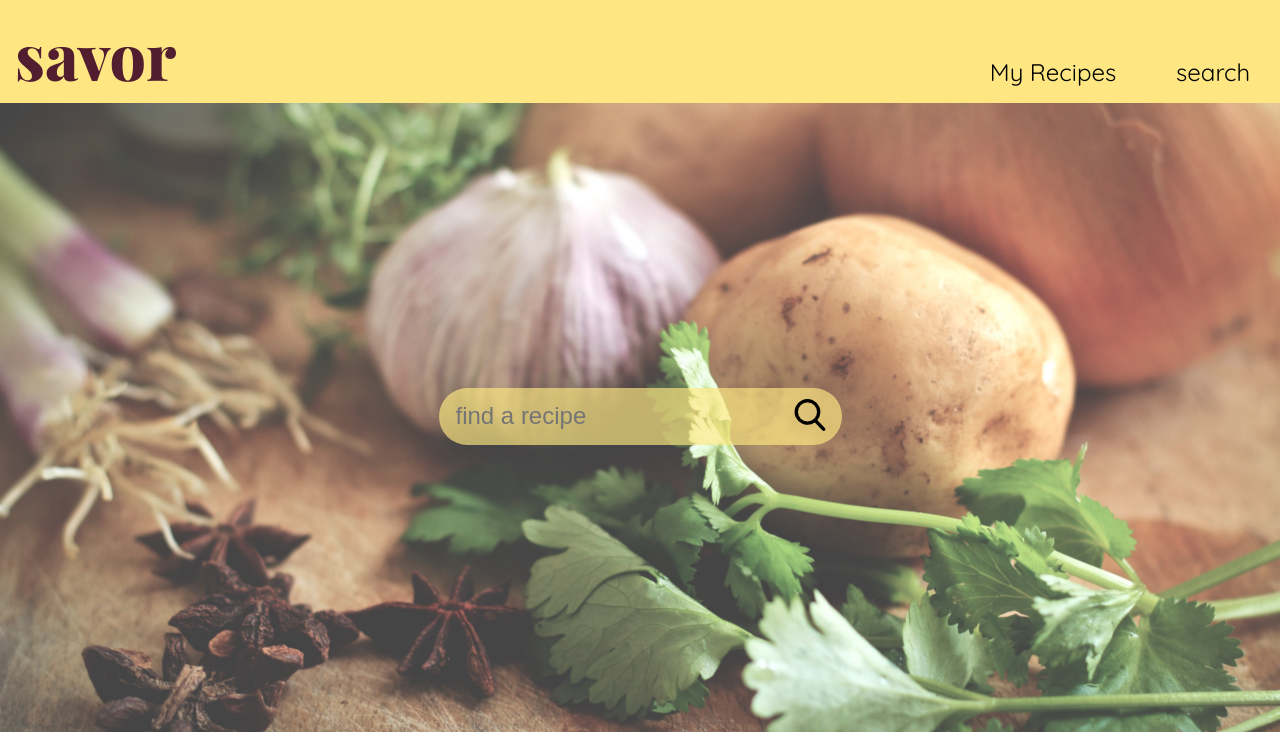
Test: Navigate back home user flows › As a user, I should be able to navigate back to the homepage by clicking on search in the header
Type "carrot limeade" into the field with class "search-bar" at {"x": 609, "y": 416}, box [439,391,778,441]
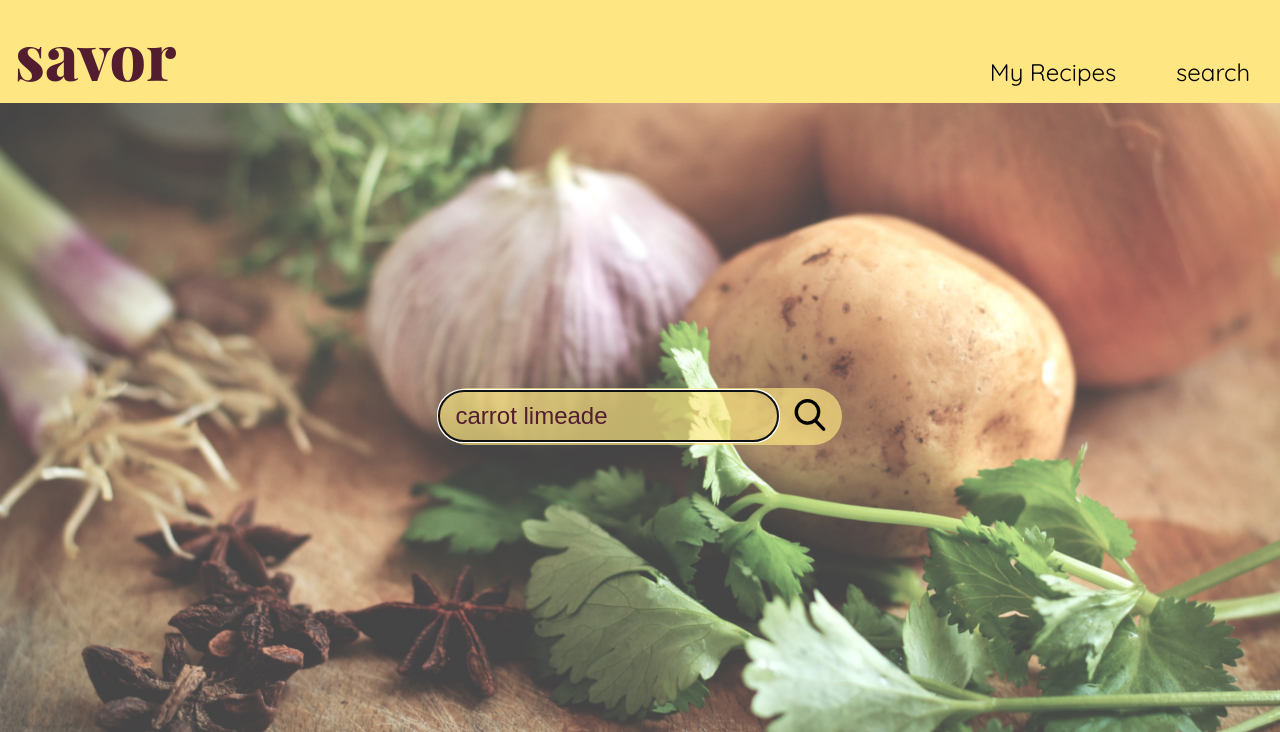
Click the button with class "submit-btn" at {"x": 810, "y": 417}, box [788,398,832,435]
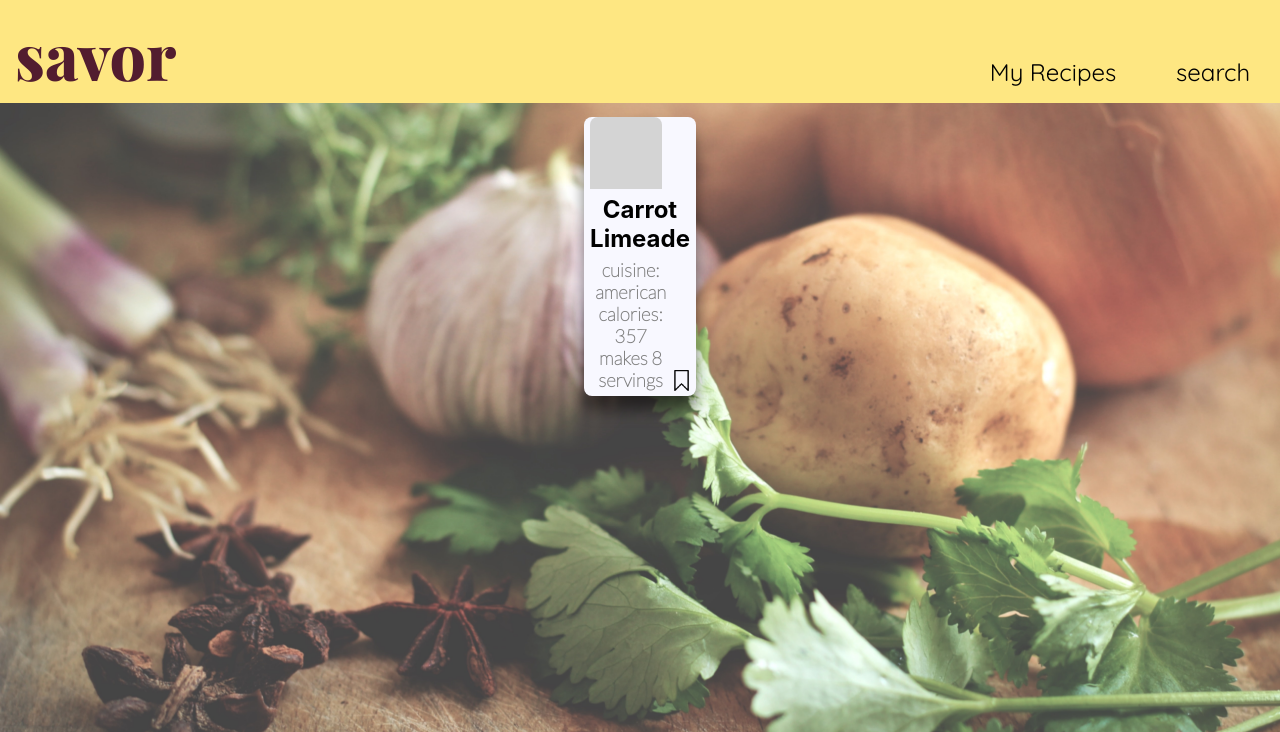
Click the link to "/" at {"x": 1213, "y": 72}, box [1176,57,1250,87]
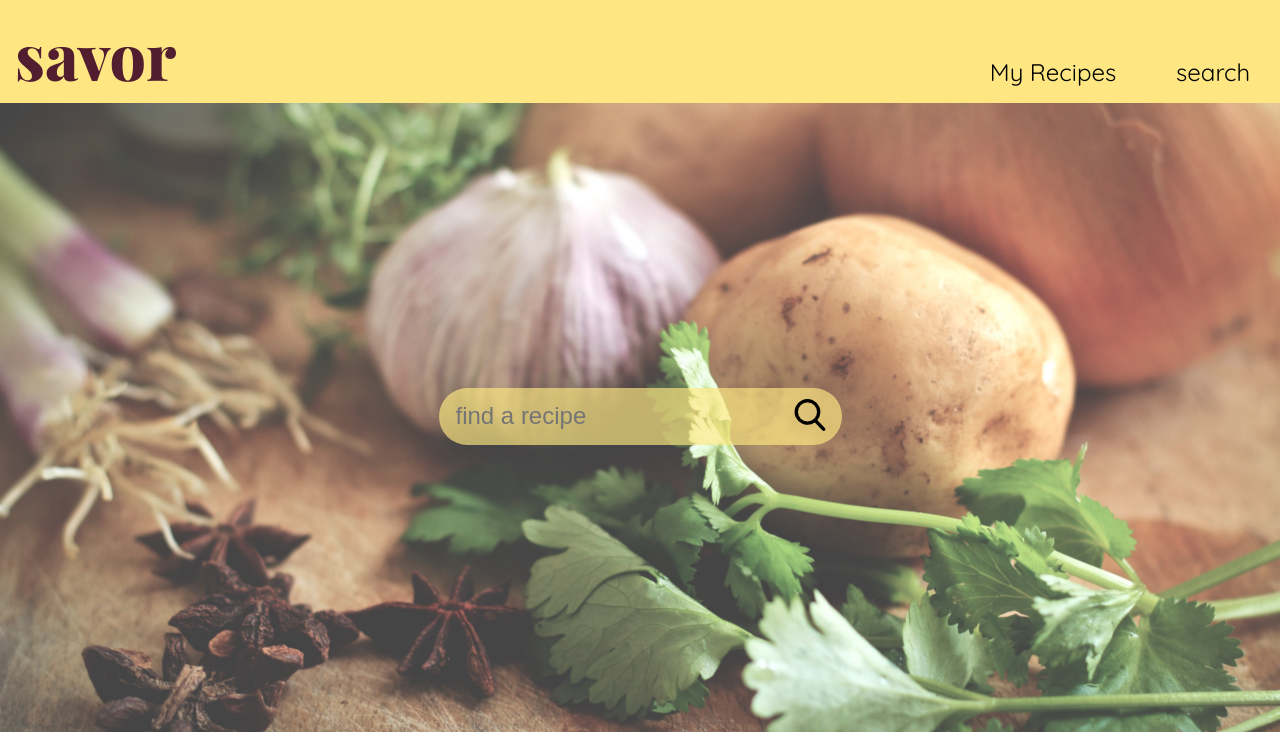
Expected: the link "savor" is shown, [15,12,176,97]
Result: the button with class "submit-btn" is shown at [788,398,832,435]
